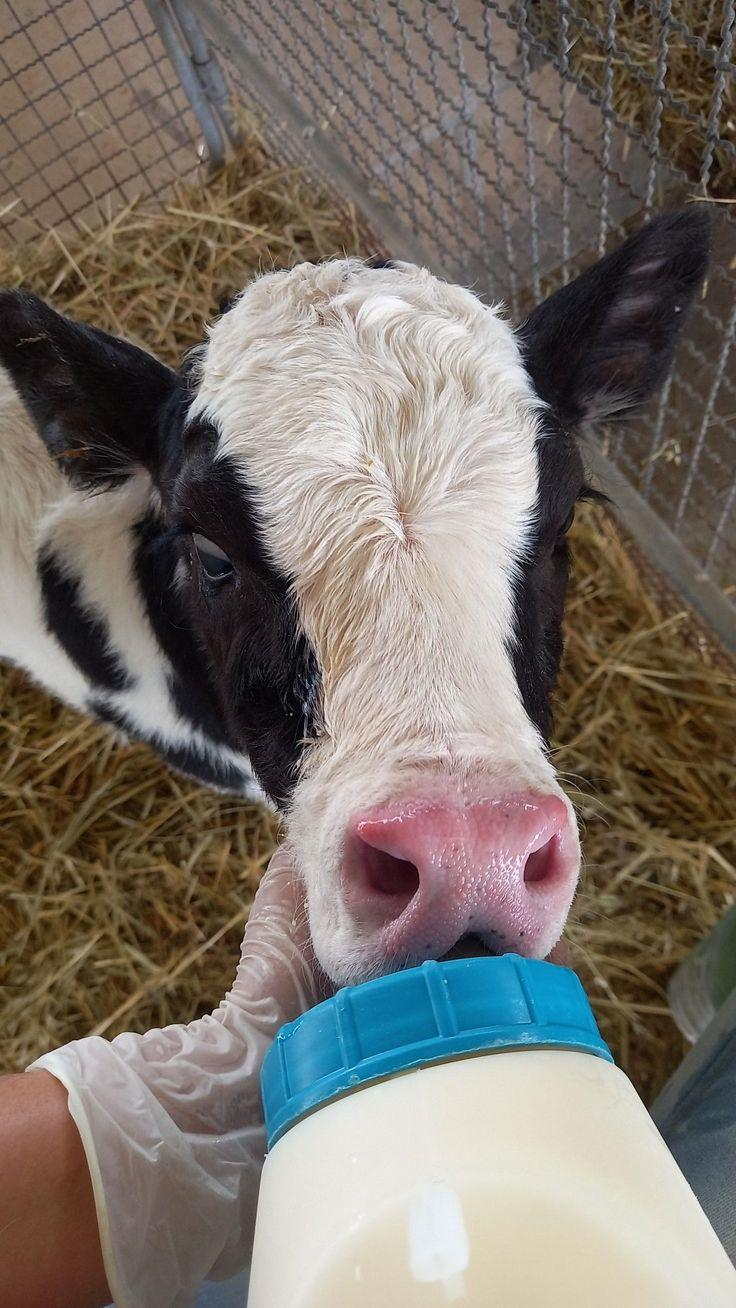cow: (30, 117, 647, 987)
